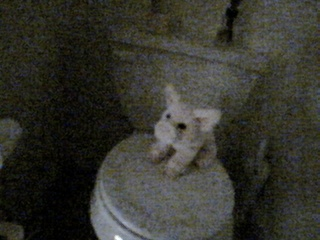piggy: (147, 83, 224, 180)
